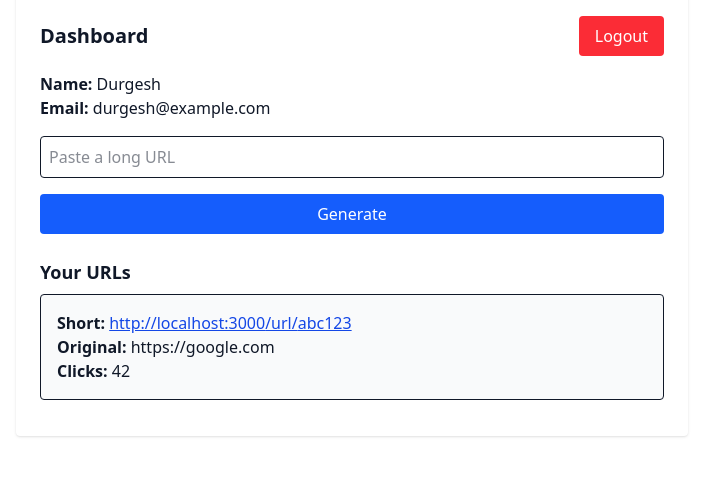
it: Dashboard Component › handles API error when generating URL
The width and height of the screenshot is (705, 486).
Type "https://badurl.com" into the field with placeholder "Paste a long URL". click: (352, 157)
box: x1=40 y1=136 x2=664 y2=178
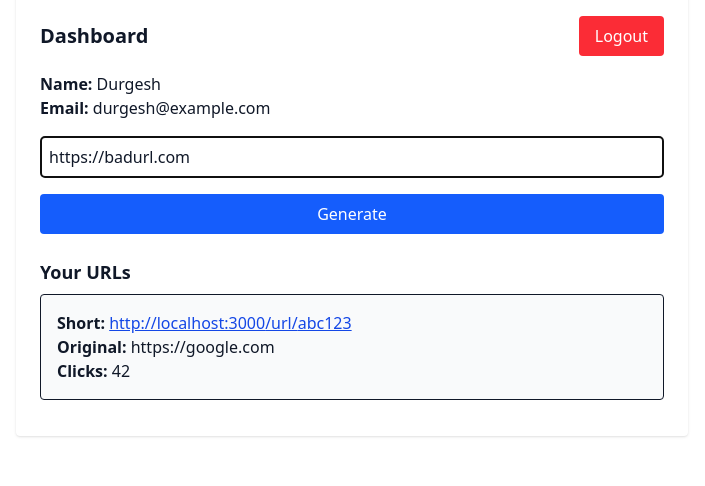
Click the button "Generate". click: click(352, 214)
box: x1=40 y1=194 x2=664 y2=234
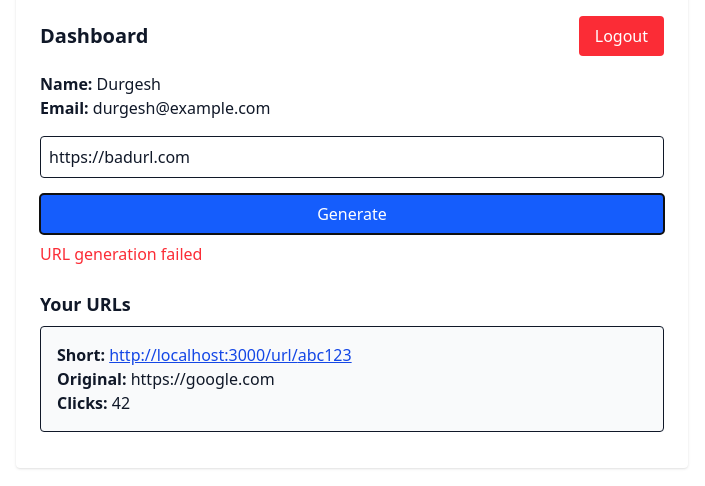
Expected: the text "URL generation failed" is shown, x1=40 y1=243 x2=202 y2=265
